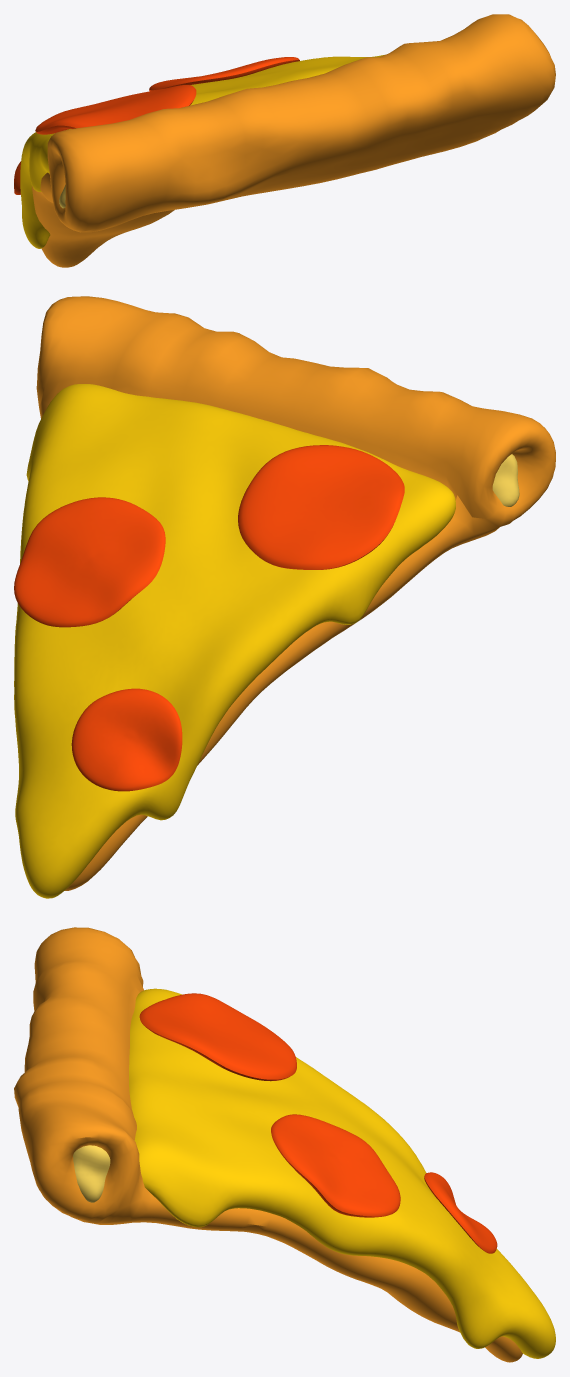
File: pizza.gltf
3 renders of one model, top to bottom at view 1: azimuth 30°, elevation 25°; view 2: azimuth 150°, elevation 25°; view 3: azimuth 270°, elevation 25°, orthographic. The views are drawn at different scales.
Parts seen in each view (by area): view 1: BREAD, CHEESE_2, PEPPERONI, PEPPERONI_2; view 2: CHEESE_2, BREAD, PEPPERONI, PEPPERONI_2, PEPPERONI_3, CHEESE; view 3: CHEESE_2, BREAD, PEPPERONI_2, PEPPERONI, PEPPERONI_3, CHEESE.
Part boxes in pixels (x1,y1,x2,y2): BREAD: [32, 14, 555, 267]; CHEESE_2: [20, 55, 384, 248]; PEPPERONI: [35, 85, 196, 134]; PEPPERONI_2: [149, 57, 299, 91]; CHEESE_2: [14, 384, 455, 898]; BREAD: [36, 296, 555, 890]; PEPPERONI: [238, 445, 404, 569]; PEPPERONI_2: [14, 497, 165, 627]; PEPPERONI_3: [71, 688, 182, 791]; CHEESE: [492, 454, 519, 506]; CHEESE_2: [129, 988, 555, 1358]; BREAD: [14, 927, 522, 1362]; PEPPERONI_2: [271, 1114, 400, 1217]; PEPPERONI: [139, 993, 296, 1081]; PEPPERONI_3: [424, 1172, 497, 1253]; CHEESE: [73, 1145, 110, 1202].
Bounding box in the file's own units: 106 × 74.06 × 106.
